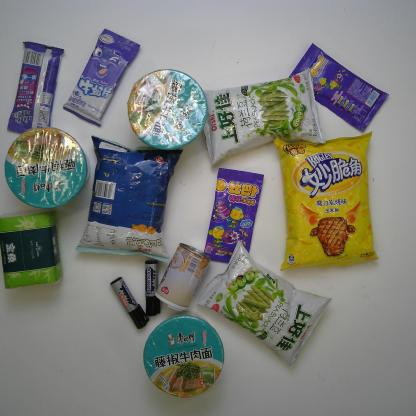Candy: (289, 41, 391, 134), (62, 27, 142, 130), (204, 167, 266, 266), (5, 40, 65, 138)
Canned Food: (152, 239, 212, 315)
Instant Noodles: (141, 310, 228, 401), (3, 126, 94, 212), (126, 67, 210, 153)
Puffed Food: (194, 238, 334, 368), (270, 130, 381, 273), (73, 133, 185, 265), (201, 67, 328, 168)
Stationery: (107, 274, 150, 332), (142, 258, 163, 318)
Tissue: (1, 209, 66, 294)
